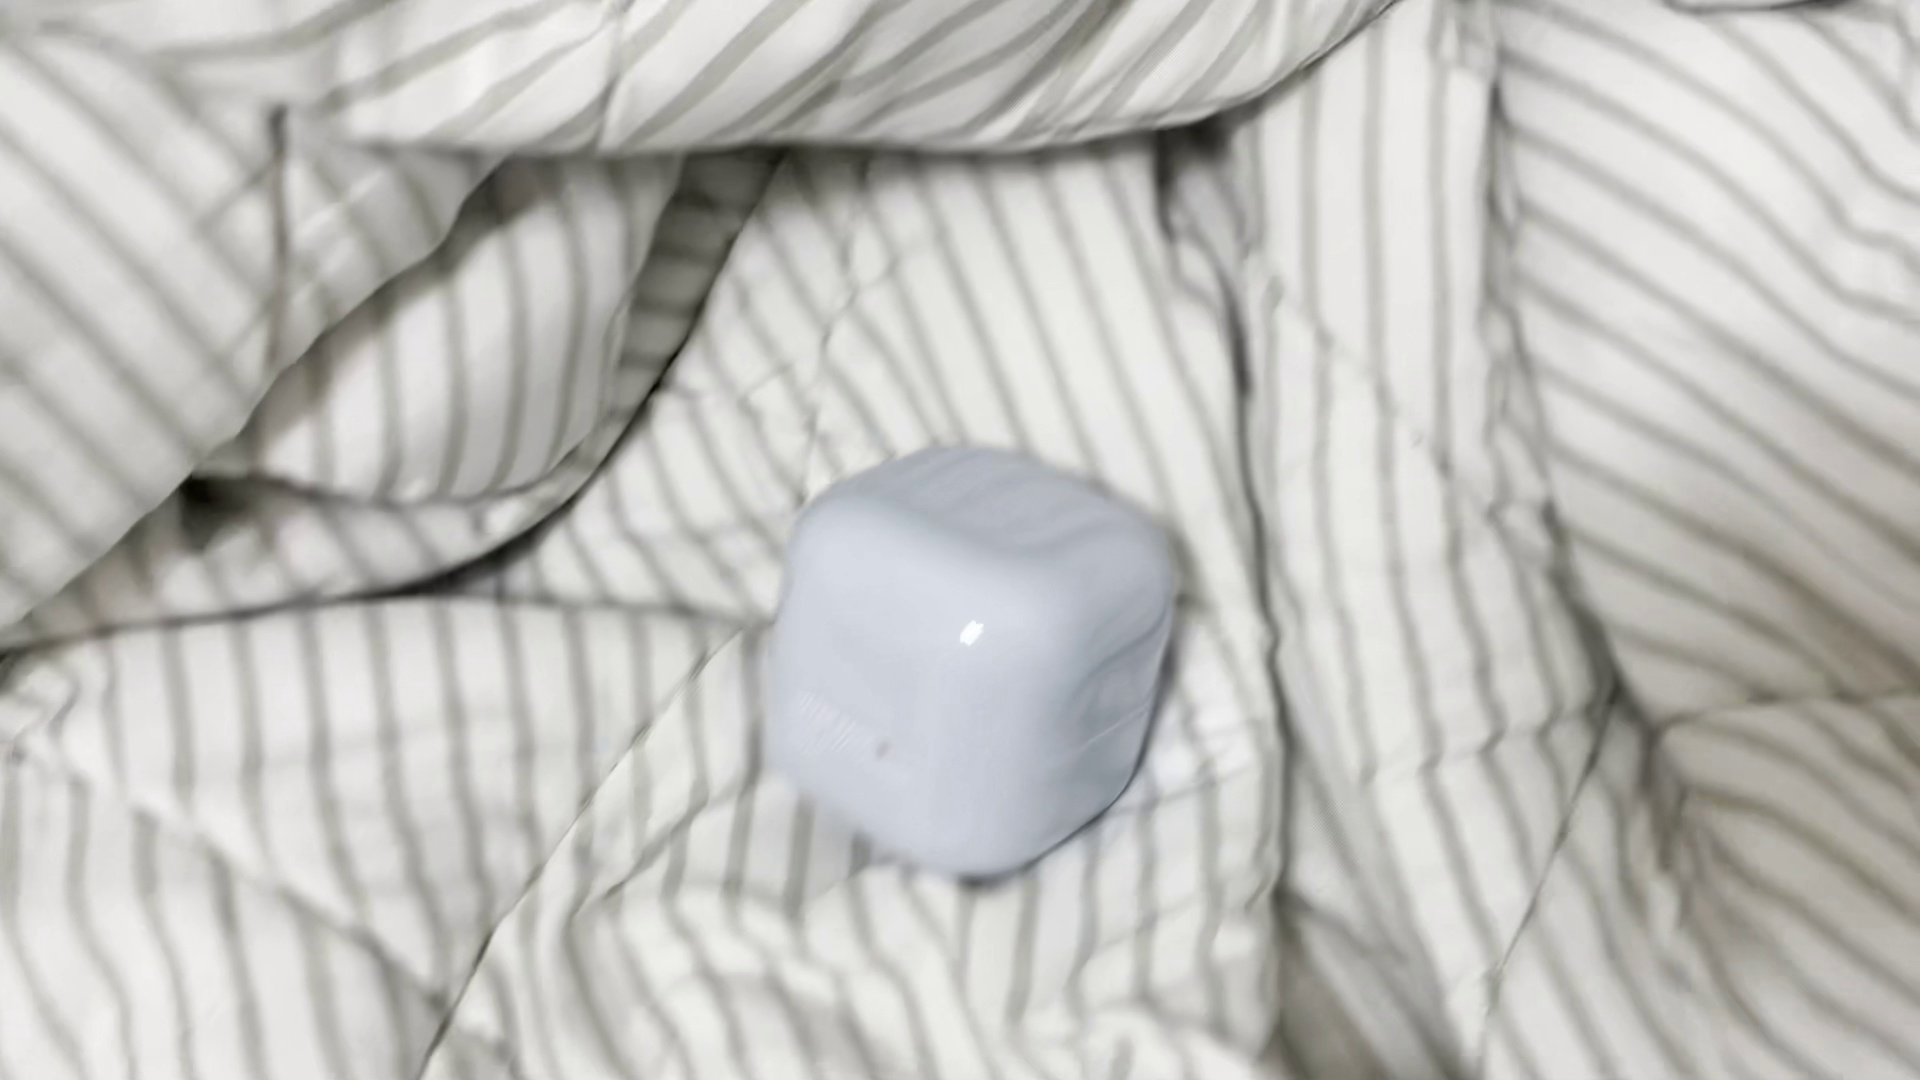cream: (764, 443, 1182, 886)
